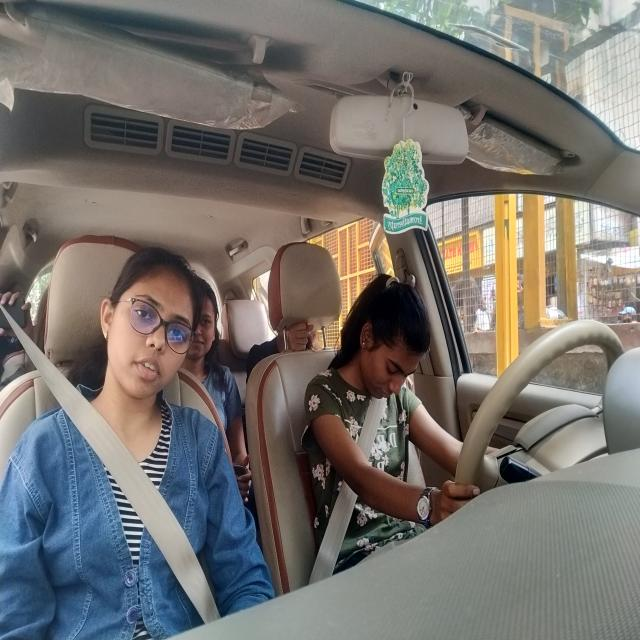drowsy: (346, 273, 434, 402)
person: (99, 248, 194, 400), (190, 268, 220, 364)
